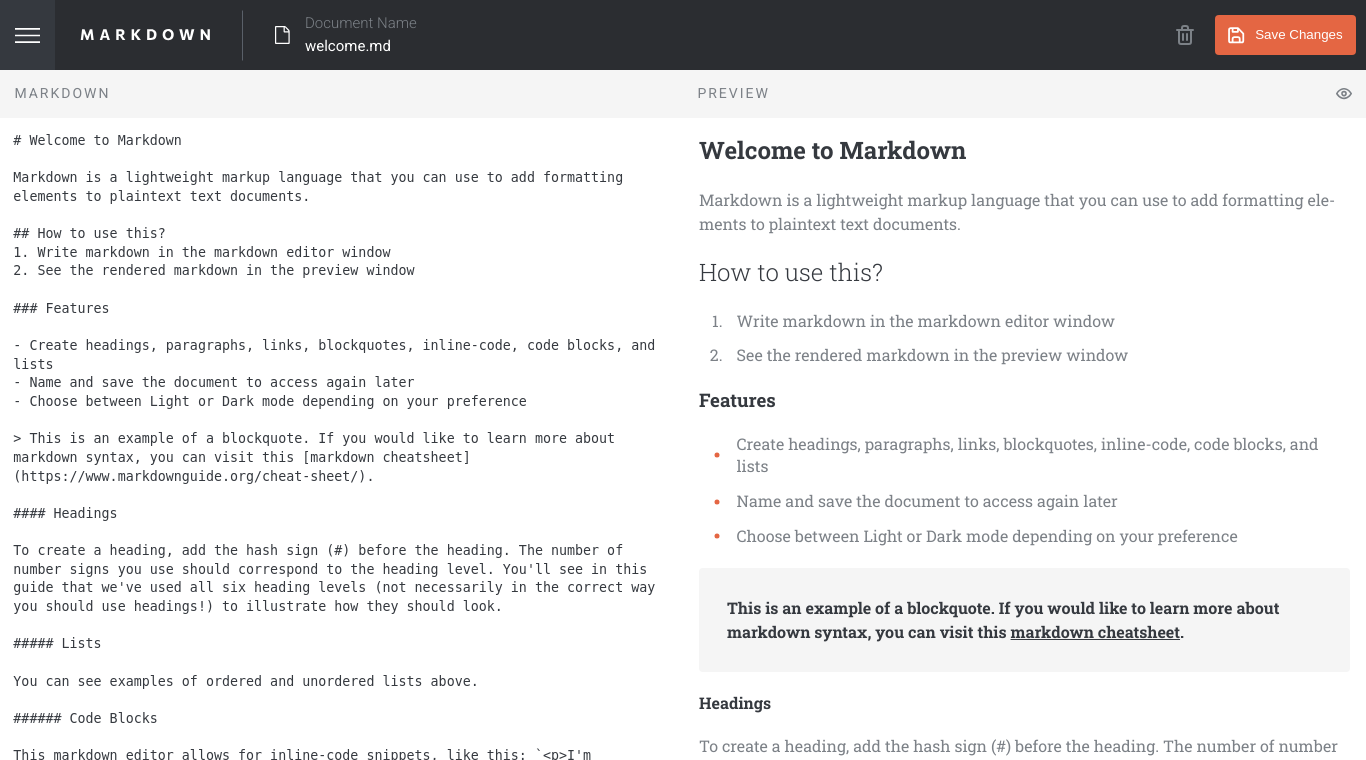
Test: creating a new document from inital welcome page › invalid document name, modal appears
Replace the text in the field with test id "documentName" with "bad-name.m": (390, 47) [305,36,474,57]
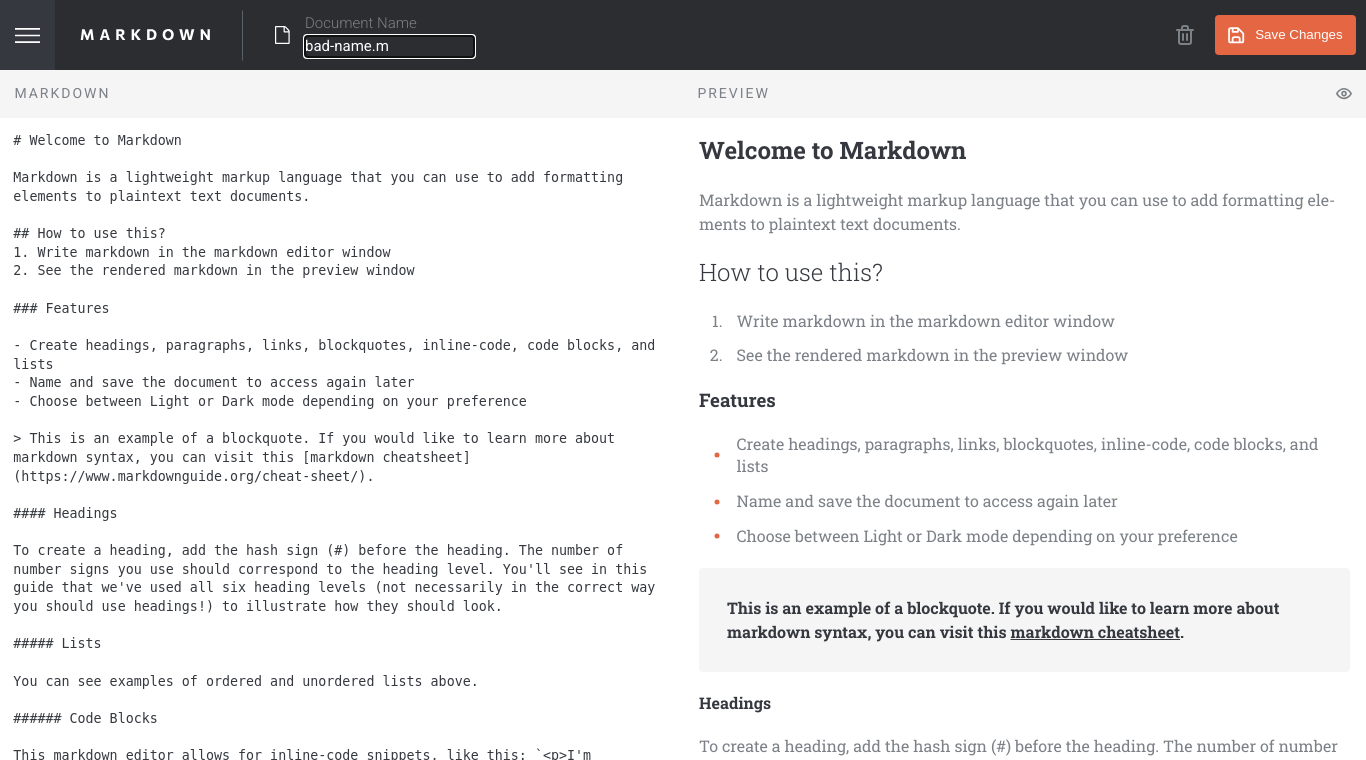
Click the button with test id "saveDocumentButton": click(1286, 35) [1215,15,1356,55]
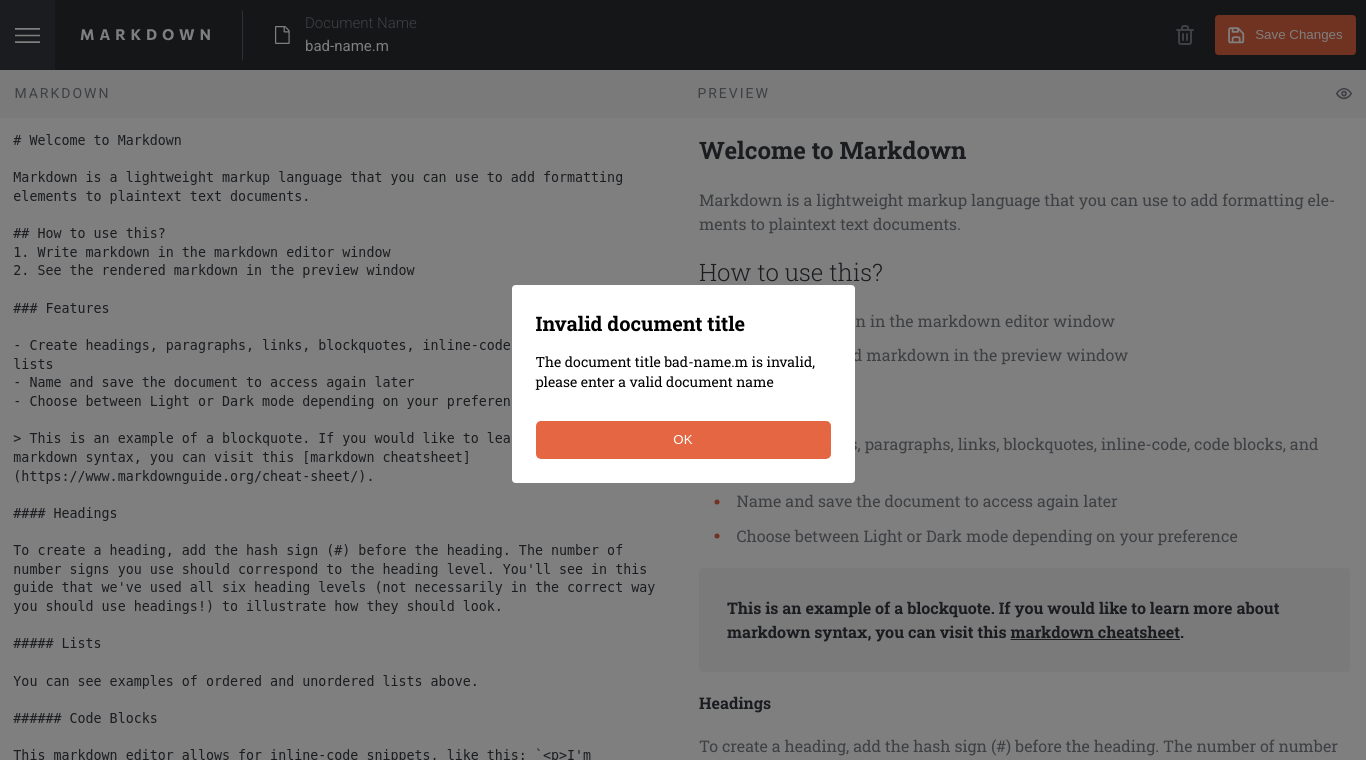
Check: the heading "Invalid document title" is shown, box [536,310,745,336]
Click the button "OK": click(684, 440) [536,421,831,458]
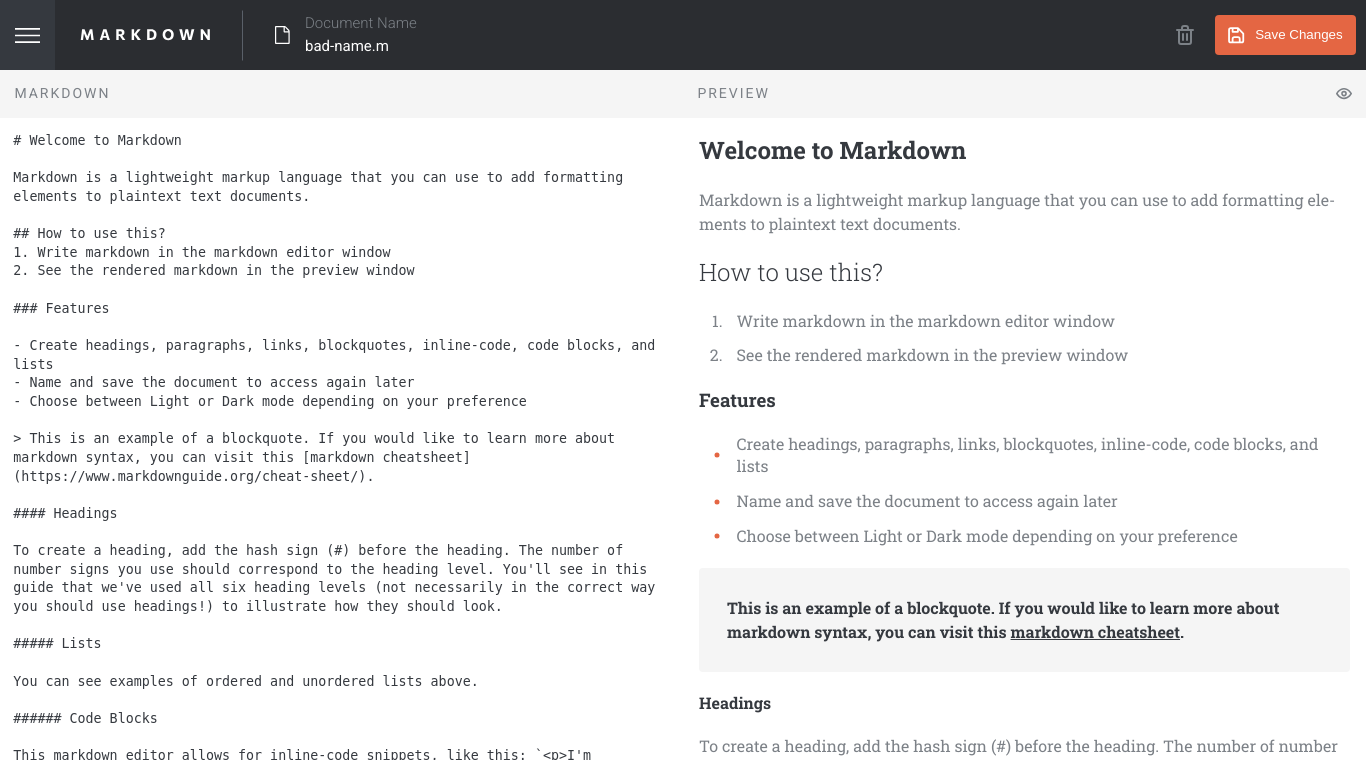
Check: the element with test id "modalPrompt" is gone
